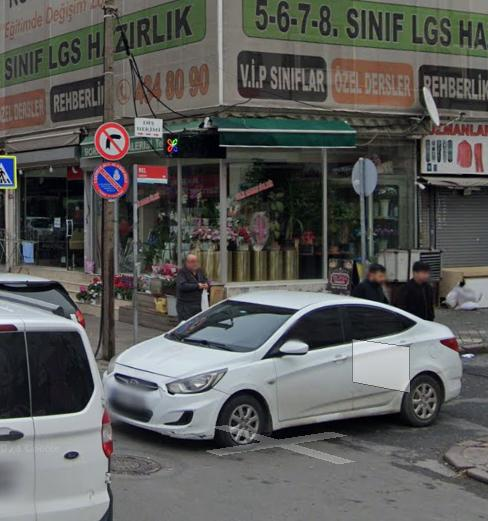nopark: (92, 163, 128, 195)
rightturnsareforbidden: (95, 123, 129, 160)
